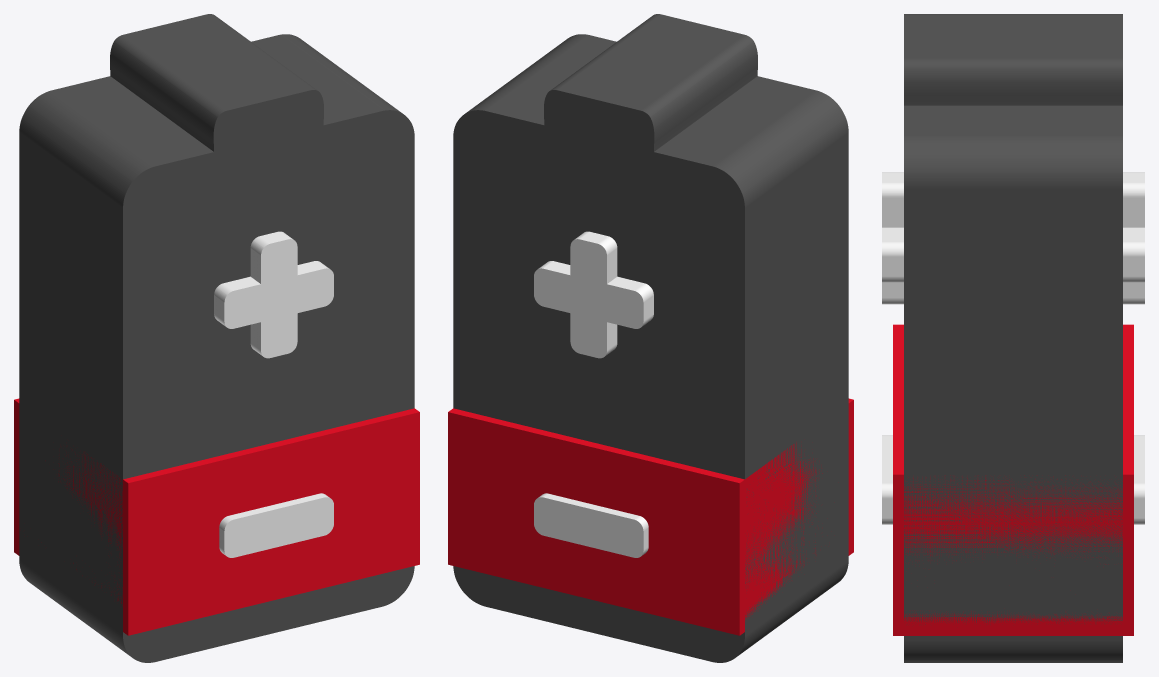
Rendered from U+1FAAB.obj.
3 views of the same model, side by side, from view 1: azimuth 30°, elevation 25°; view 2: azimuth 150°, elevation 25°; view 3: azimuth 270°, elevation 25° (orthographic). The views are drawn at different scales.
Parts seen in each view (by area): view 1: U+1FAAB_layer00_obj00, U+1FAAB_layer01_obj00, U+1FAAB_layer02_obj00; view 2: U+1FAAB_layer00_obj00, U+1FAAB_layer01_obj00, U+1FAAB_layer02_obj00; view 3: U+1FAAB_layer00_obj00, U+1FAAB_layer01_obj00, U+1FAAB_layer02_obj00.
Part boxes in pixels (<box>): U+1FAAB_layer00_obj00: <box>19,14,414,662</box>; U+1FAAB_layer01_obj00: <box>14,398,419,635</box>; U+1FAAB_layer02_obj00: <box>214,231,333,557</box>; U+1FAAB_layer00_obj00: <box>453,14,848,662</box>; U+1FAAB_layer01_obj00: <box>448,398,853,635</box>; U+1FAAB_layer02_obj00: <box>534,231,653,557</box>; U+1FAAB_layer00_obj00: <box>904,14,1122,662</box>; U+1FAAB_layer01_obj00: <box>893,324,1133,635</box>; U+1FAAB_layer02_obj00: <box>882,172,1144,524</box>.
Size of the model in its own units: 0.3246 by 0.5677 by 0.24.
